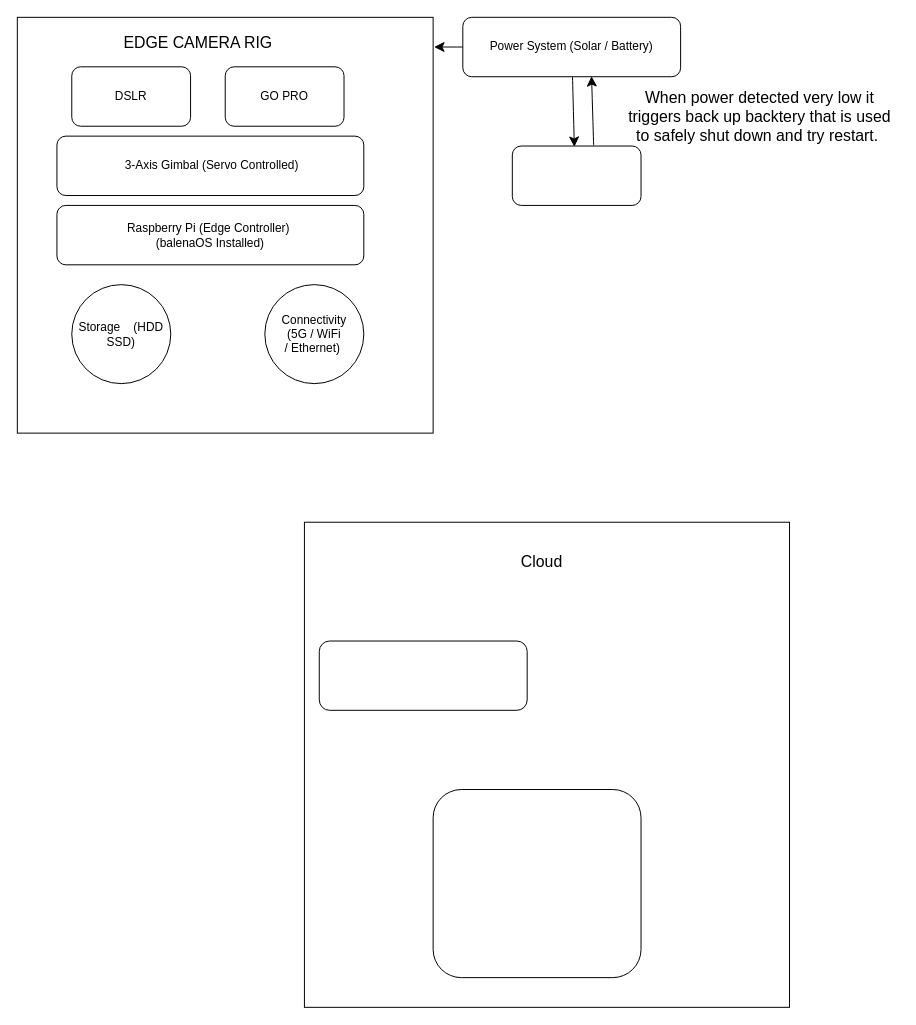
Image size: 916x1025. Some labels were removed from this diagram. The shapes that lost their labels are listed below. From the top down, each one's centre as x and y in pixels, then its label:
(576,175): Emergency Back Up
(422,675): Firebase
(536,883): AWS
